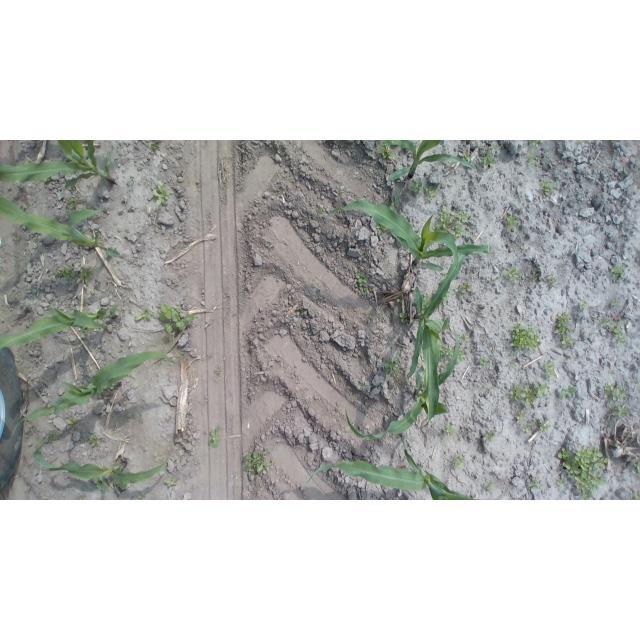Maize: (11, 350, 175, 436), (316, 198, 490, 272), (345, 329, 459, 440), (407, 240, 473, 428), (307, 434, 476, 500), (34, 432, 169, 493), (0, 196, 120, 258), (0, 140, 116, 200), (0, 298, 122, 350), (382, 140, 475, 180)
Weeds: (558, 445, 610, 500), (432, 204, 468, 237), (159, 302, 195, 334), (505, 379, 548, 404), (596, 313, 626, 347), (509, 323, 543, 353), (244, 448, 276, 477), (553, 312, 575, 348), (601, 382, 628, 401), (153, 181, 172, 207), (520, 419, 552, 433), (540, 359, 558, 381), (54, 265, 76, 280), (609, 263, 626, 282), (503, 266, 522, 283), (133, 304, 153, 320), (557, 385, 579, 399), (377, 142, 394, 159), (385, 356, 400, 375), (452, 449, 466, 469), (209, 426, 222, 447), (479, 154, 496, 170), (455, 282, 471, 299), (79, 266, 94, 284), (423, 185, 437, 204), (605, 402, 627, 414), (538, 181, 554, 195), (409, 181, 423, 197), (482, 426, 496, 442), (389, 193, 401, 211), (504, 214, 517, 230), (440, 343, 454, 357), (355, 272, 367, 288), (478, 355, 490, 369), (528, 478, 542, 490), (444, 424, 457, 436), (525, 152, 537, 164), (577, 298, 589, 310), (88, 435, 100, 447), (165, 477, 178, 487), (422, 294, 431, 308), (515, 409, 527, 419), (68, 197, 77, 210), (484, 481, 494, 492), (392, 375, 402, 386), (149, 141, 159, 152), (67, 418, 77, 429), (47, 431, 58, 441), (490, 141, 499, 153), (549, 276, 558, 288), (376, 224, 385, 236), (457, 350, 465, 363), (507, 358, 517, 368), (459, 333, 469, 343), (461, 152, 471, 161), (532, 271, 541, 281), (399, 313, 408, 323), (315, 289, 323, 300), (557, 479, 566, 488), (360, 381, 369, 390), (316, 206, 324, 216), (127, 175, 135, 185), (360, 287, 369, 295), (136, 413, 145, 421), (610, 300, 620, 307), (296, 310, 305, 317), (215, 367, 222, 376), (364, 312, 376, 317), (81, 327, 91, 333), (529, 141, 540, 146), (635, 461, 640, 471), (77, 495, 87, 500), (611, 141, 618, 148), (576, 140, 588, 144), (396, 296, 404, 302), (137, 492, 143, 500), (487, 344, 495, 349), (440, 301, 446, 307), (44, 179, 53, 183), (492, 278, 499, 283), (635, 493, 640, 499), (444, 297, 449, 302), (340, 190, 345, 195), (519, 371, 525, 375), (447, 292, 452, 296), (334, 141, 340, 144), (423, 366, 426, 371), (350, 140, 355, 142), (45, 393, 48, 396)
